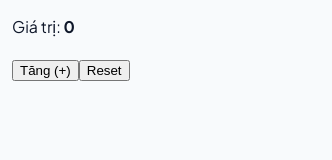
it: 15 React Hooks + TypeScript Concise Demos › 01. useState: tăng count và reset về 0
Expected: the text "Giá trị:" reads "Giá trị: 0", [12,16,75,37]
Click the button "Tăng (+)": click(45, 70) [12,60,79,81]
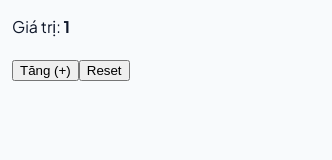
Click the button "Tăng (+)": click(45, 70) [12,60,79,81]
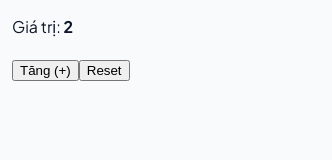
Expected: the text "Giá trị:" reads "Giá trị: 2", [12,16,73,37]
Click the button "Reset": click(104, 70) [79,60,130,81]
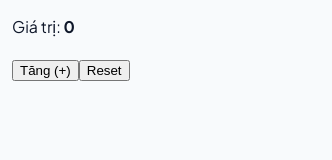
Expected: the text "Giá trị:" reads "Giá trị: 0", [12,16,75,37]
